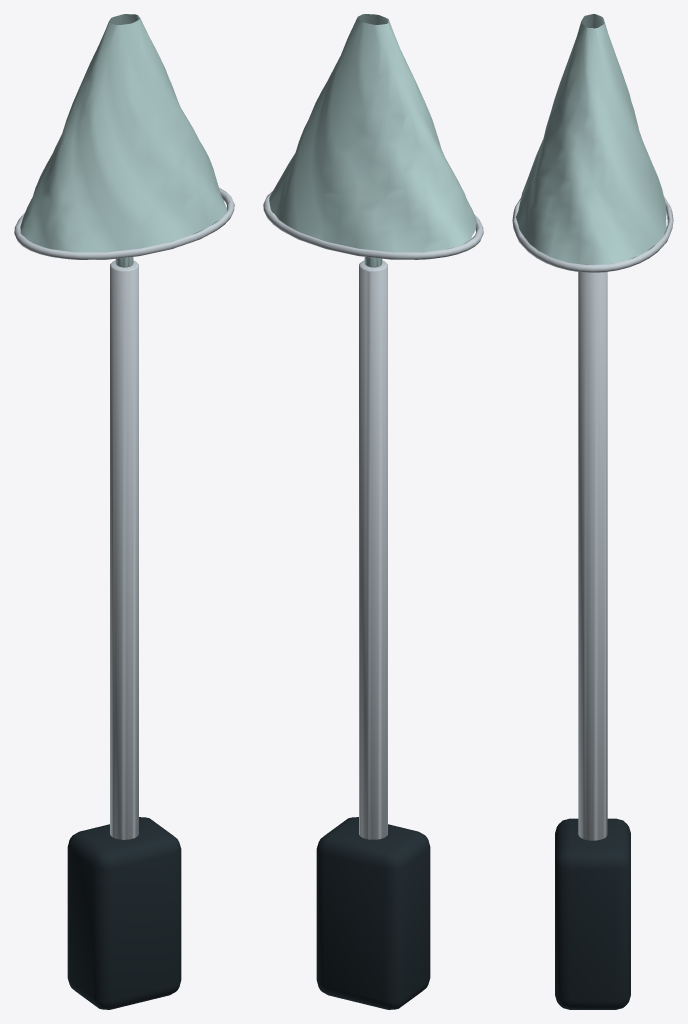
File: inst_retrieval_bag.fbx
3 renders of one model, left to right at view 1: azimuth 30°, elevation 25°; view 2: azimuth 150°, elevation 25°; view 3: azimuth 270°, elevation 25°, orthographic.
Visible parts, largest first — view 1: inst_retrieval_bag_Geometry, Bag_Geometry; view 2: inst_retrieval_bag_Geometry, Bag_Geometry; view 3: inst_retrieval_bag_Geometry, Bag_Geometry.
Part boxes in pixels (box(x1,y1,x2,y2)): inst_retrieval_bag_Geometry: box(67, 260, 181, 1009); Bag_Geometry: box(14, 14, 234, 259); inst_retrieval_bag_Geometry: box(316, 260, 430, 1009); Bag_Geometry: box(263, 14, 483, 259); inst_retrieval_bag_Geometry: box(555, 272, 630, 1009); Bag_Geometry: box(512, 14, 673, 272).
Size of the model in its own units: 0.0808 by 0.366 by 0.0549.
